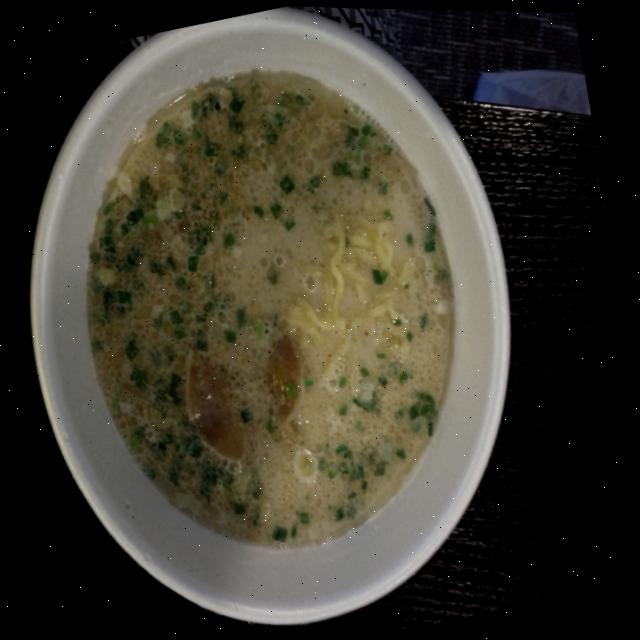面条主食: (0, 0, 590, 640)
